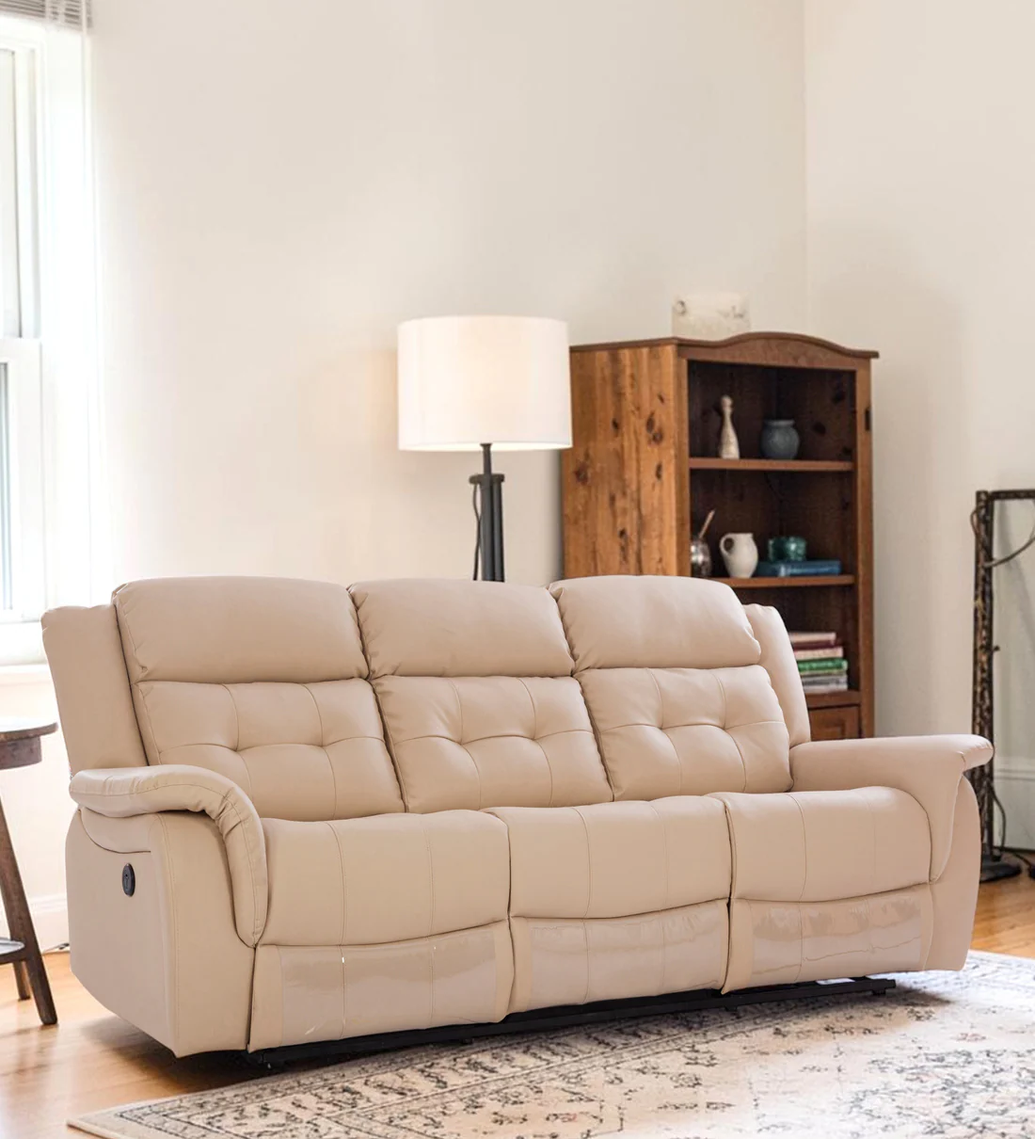3seatersofa: (41, 575, 990, 1054)
backrest: (44, 578, 807, 820)
leftarmrest: (790, 734, 992, 967)
rightarmrest: (66, 765, 267, 1055)
seat: (250, 786, 959, 1049)
